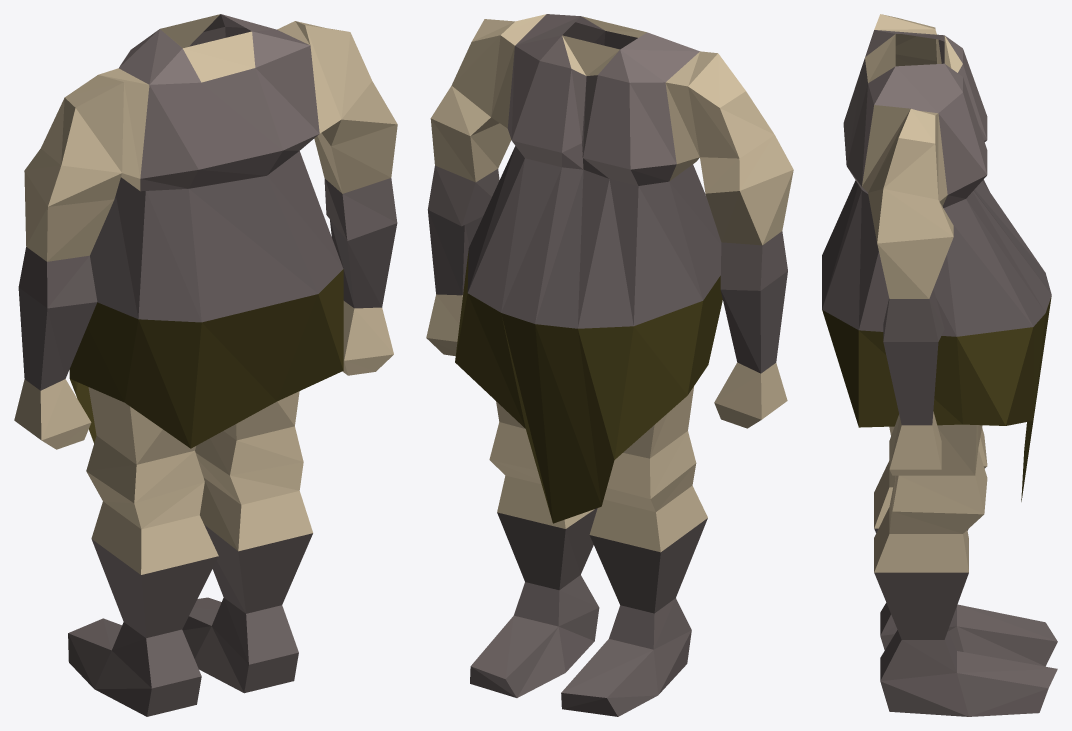
Rendered from npc_world_toban_0.obj.
3 views of the same model, side by side, from view 1: azimuth 30°, elevation 25°; view 2: azimuth 150°, elevation 25°; view 3: azimuth 270°, elevation 25° (orthographic). The views are drawn at different scales.
Bounding box in the file's own units: 0.9922 × 1.77 × 0.6016.
